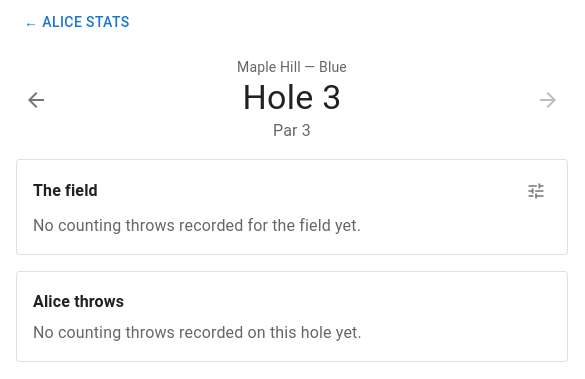
Test: HoleBreakdownPage › navigates to the next hole and disables Next on the last hole
Expected: the heading "Hole 3" is shown, [237,76,347,118]
Expected: the button named "next hole" is disabled, [528,80,568,120]
Step 1. Click the button named "previous hole" → (36, 100), box [16,80,56,120]
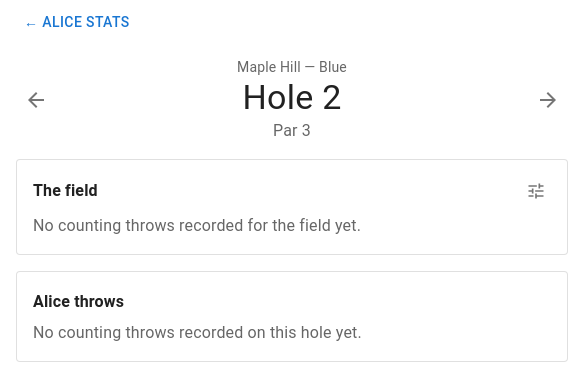
Expected: the heading "Hole 2" is shown, [237,76,347,118]
Expected: the button named "next hole" is enabled, [528,80,568,120]
